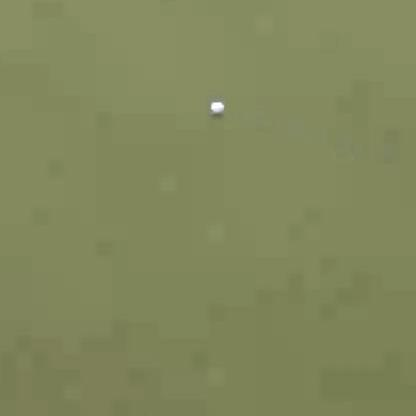golfball: (209, 100, 225, 114)
